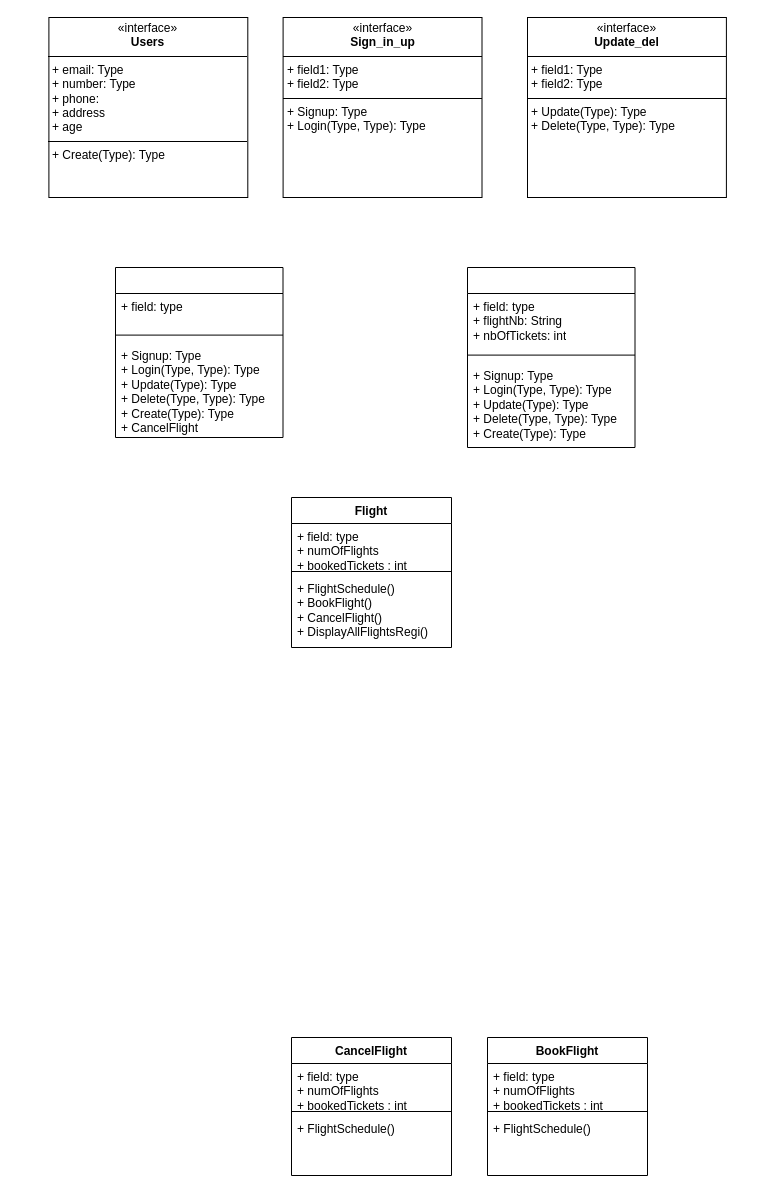
Some shapes in this 764 by 1196 pixel diagram are drawn without their labels. Each missing label, with the box of its shape:
Admin: (114, 266, 283, 438)
Customers: (466, 266, 635, 448)
